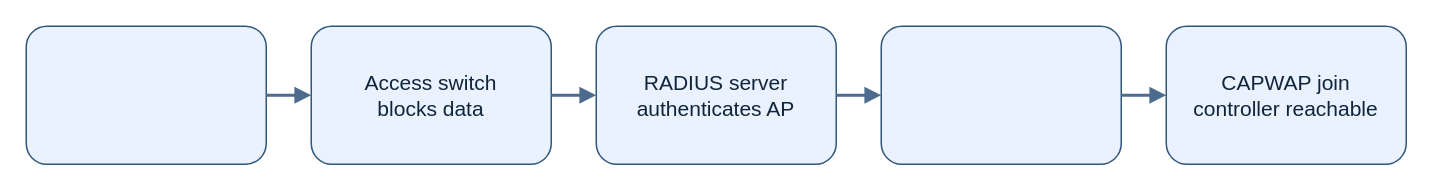
Some shapes in this 1433 by 191 pixel diagram are drawn without their labels. The box of each missing label's shape, as (x1, y1, x2, y2) in pixels:
FortiAP supplicant EAP method: (25, 25, 266, 164)
Port authorized data allowed: (880, 25, 1121, 164)
